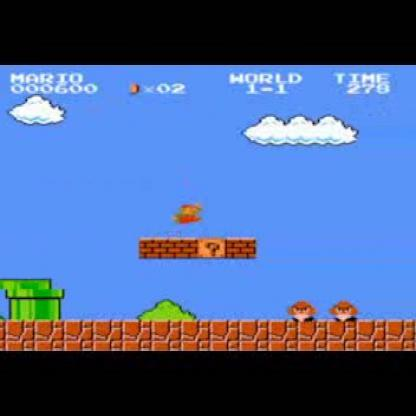Goomba: (288, 297, 320, 321), (332, 300, 361, 321)
